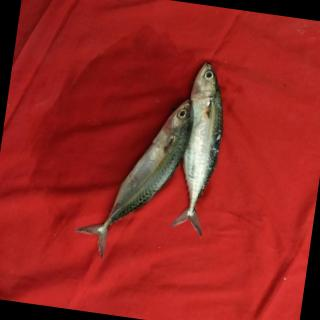Ikan: (58, 24, 261, 279)
